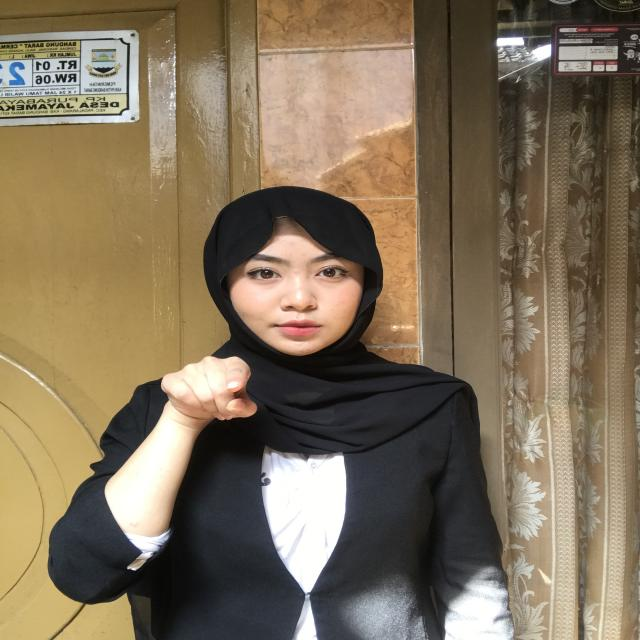kamu: (145, 346, 266, 434)
